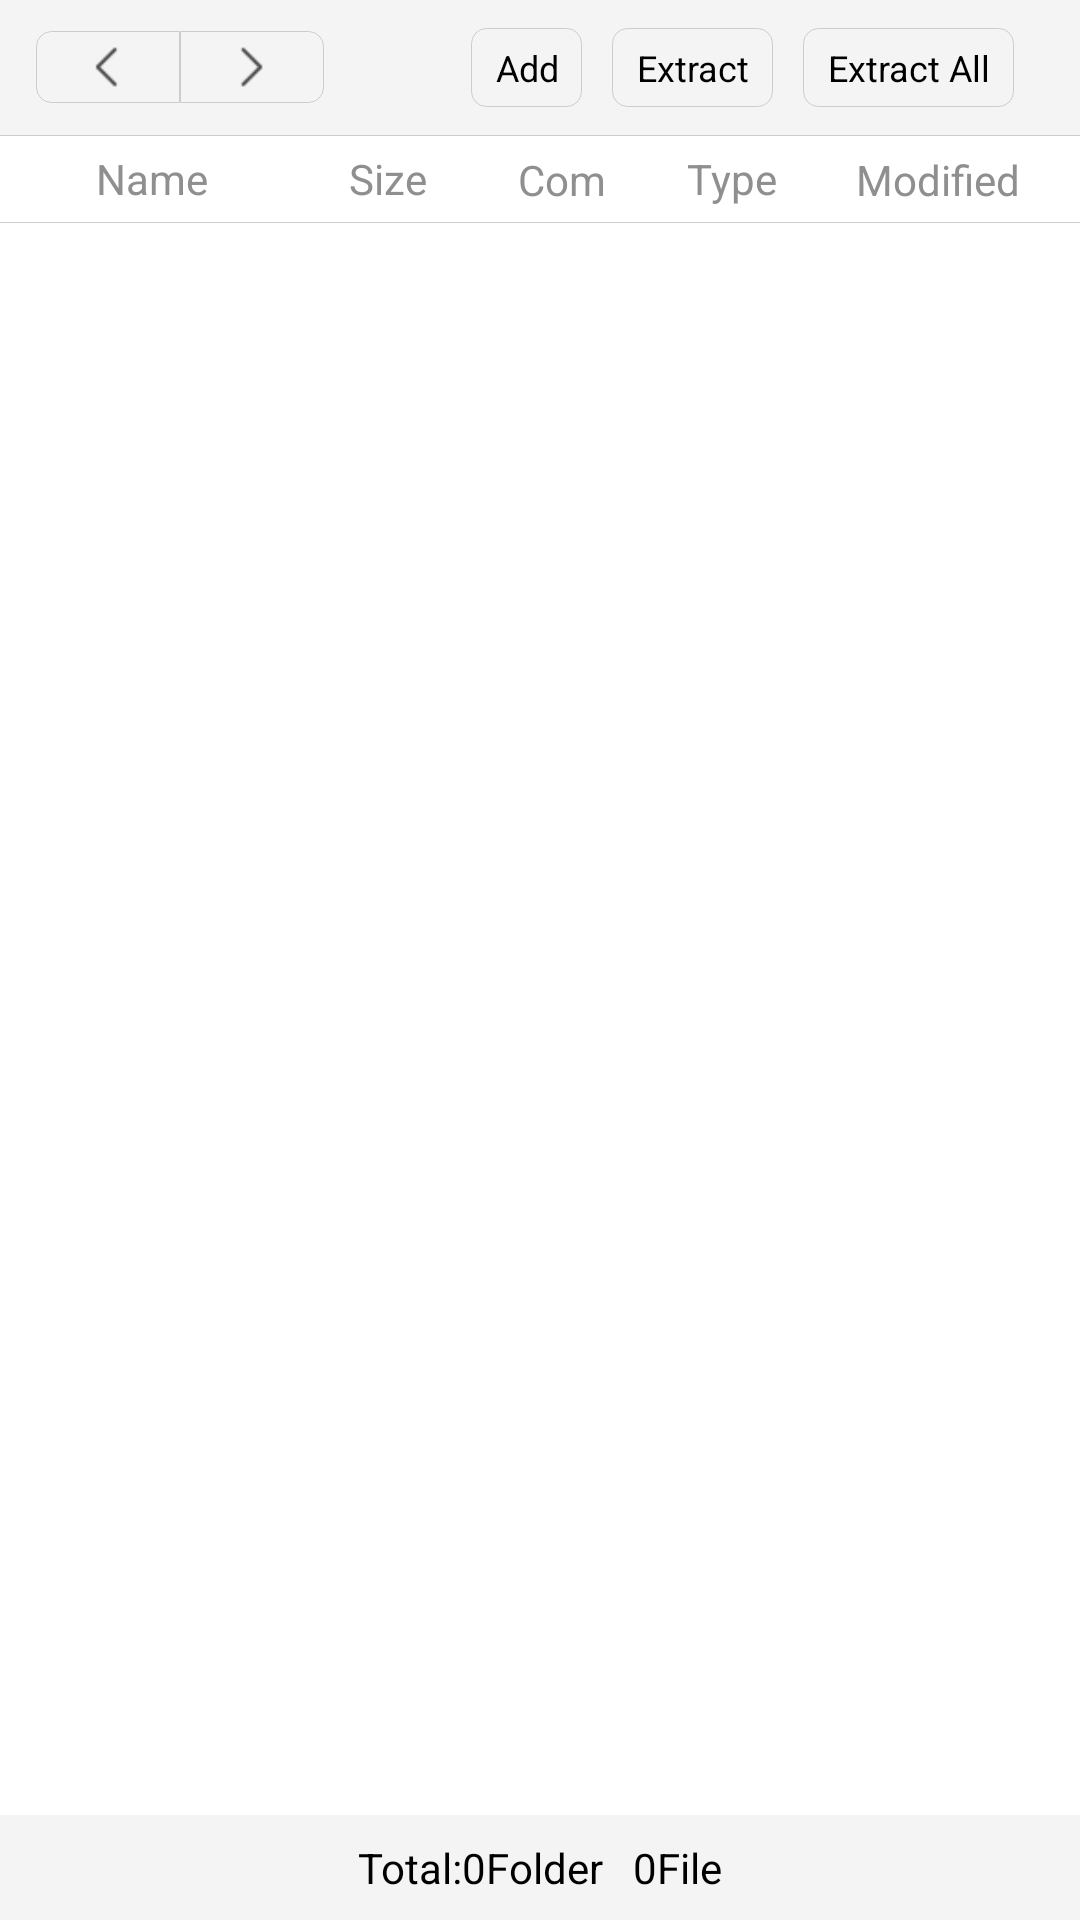

Screen size 1080px×1920px. Icon name, then its box in pixels as bbox=[x1, y1, x2, y2]:
back: bbox=[36, 32, 117, 102]
forward: bbox=[241, 32, 324, 102]
